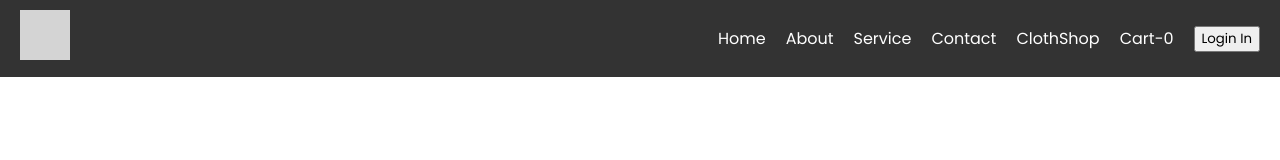
should work header component with click event to logout
This screenshot has width=1280, height=160.
Click the button "Login In" at (1227, 38), box [1194,26,1260,52]
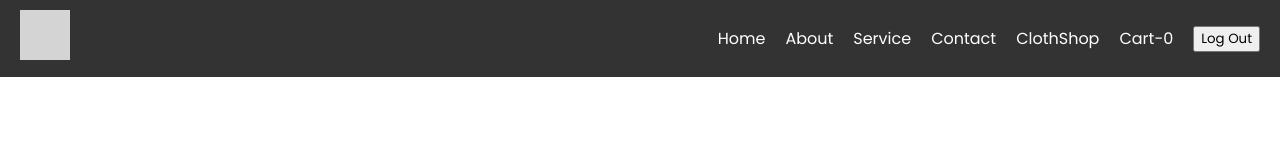
Expected: the button "Log Out" is shown, [1193,26,1260,52]
